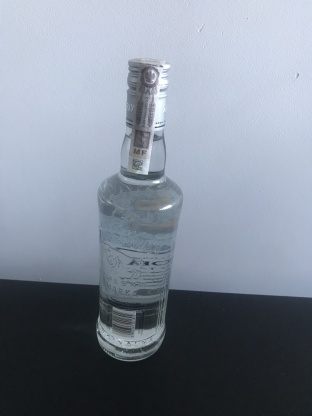nakretka: (123, 52, 171, 133), (122, 41, 126, 48)
